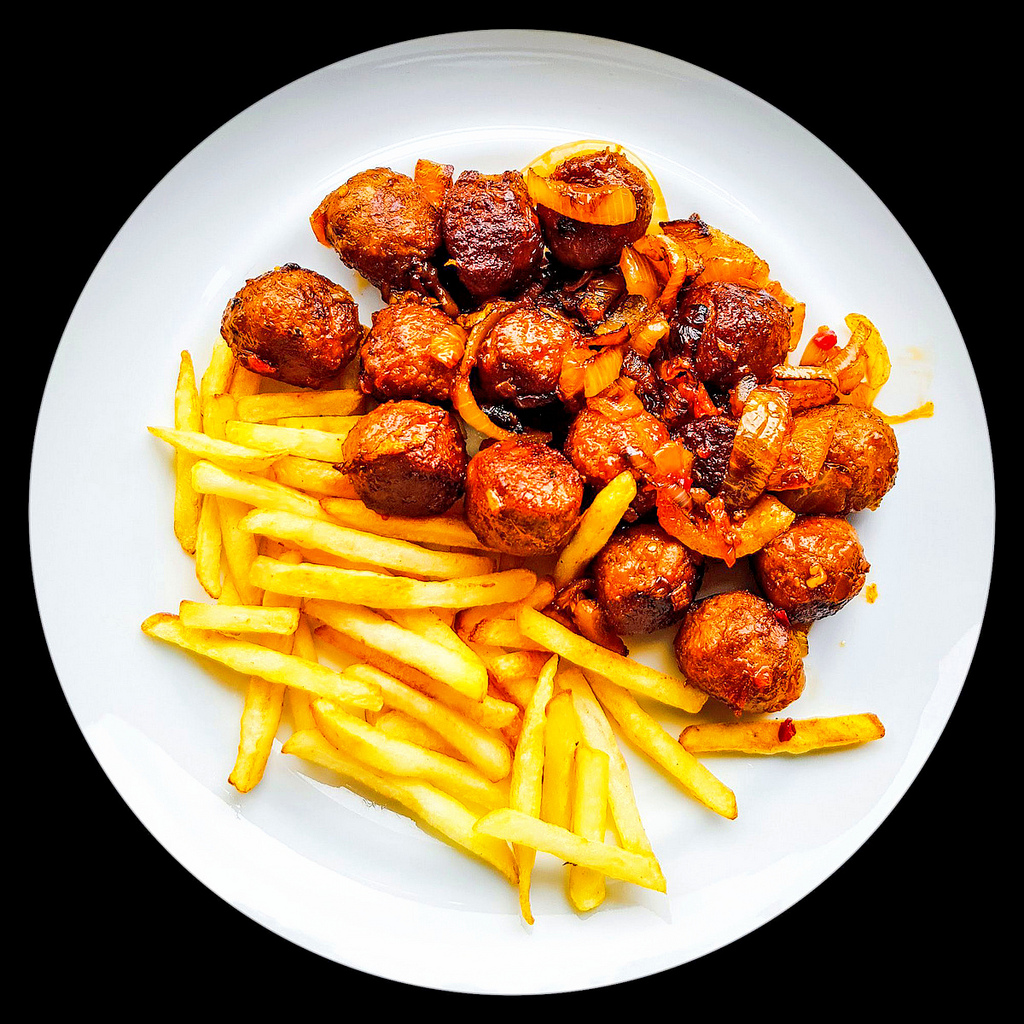meatballs: (339, 190, 859, 648)
